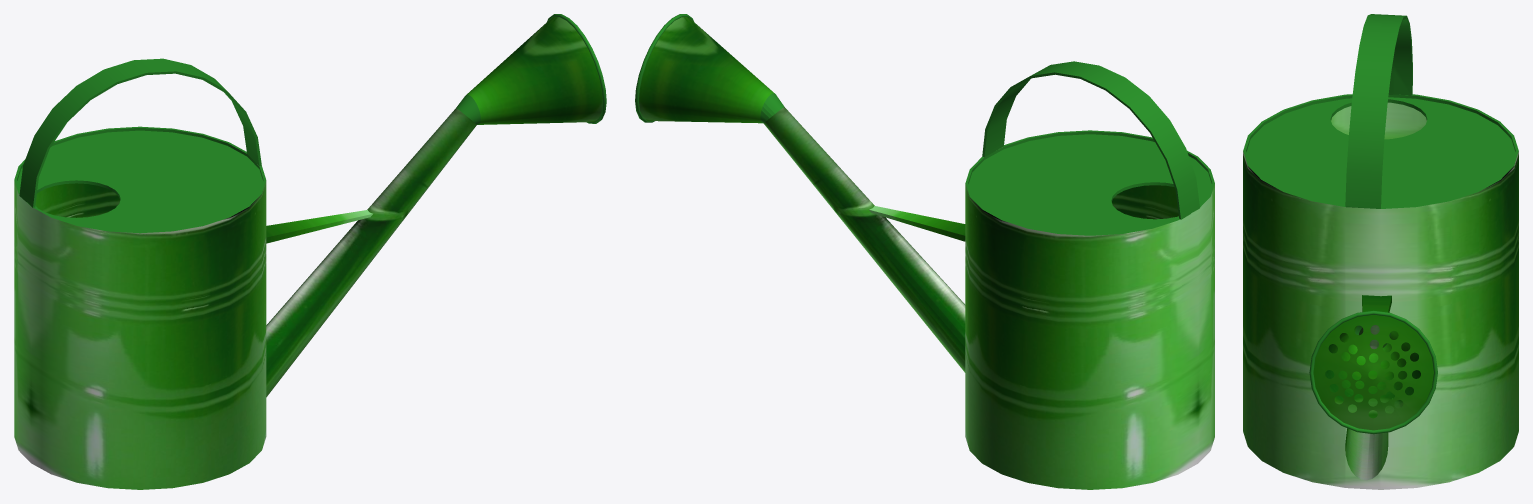
3 views of the same model, side by side, from view 1: azimuth 30°, elevation 25°; view 2: azimuth 150°, elevation 25°; view 3: azimuth 270°, elevation 25° (orthographic). The views are drawn at different scales.
Parts seen in each view (by area): view 1: SketchUp (×3); view 2: SketchUp (×3); view 3: SketchUp (×4).
Boxes of the visible parts, bbox=[...] form: SketchUp (×3): bbox=[14, 17, 602, 489]; SketchUp (×3): bbox=[639, 17, 1214, 489]; SketchUp (×4): bbox=[1243, 14, 1518, 489].
Size of the model in its own units: 70.7 by 28.06 by 45.45.
